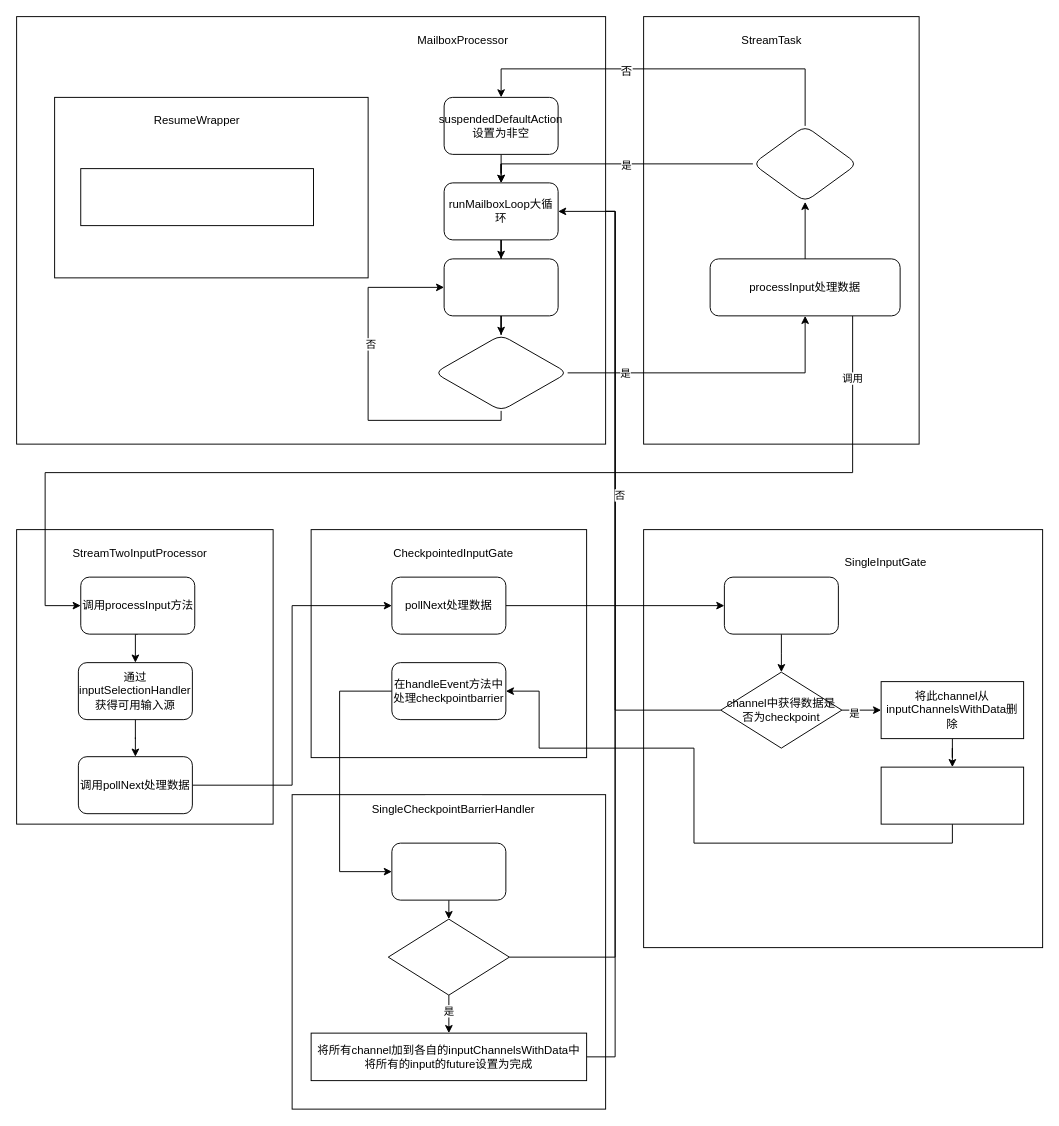
This 1059x1126 diagram has some shape labels left out. The shapes that lost their labels are listed below. From the top down, each one's centre as x and y in pixels, then its label:
At point 804,163: "是否还有数据".
At point 197,197: "run方法将suspendedDefaultAction设置为空".
At point 500,287: "processMail小循环".
At point 501,372: "suspendedDefaultAction是否为空".
At point 780,605: "从inputChannelsWithData中获得channel".
At point 952,795: "将当前input设置为不可用 将availableFuture设置一个新的future等待调用完成".
At point 448,871: "在processBarrier方法中处理".
At point 448,956: "是否到齐".
